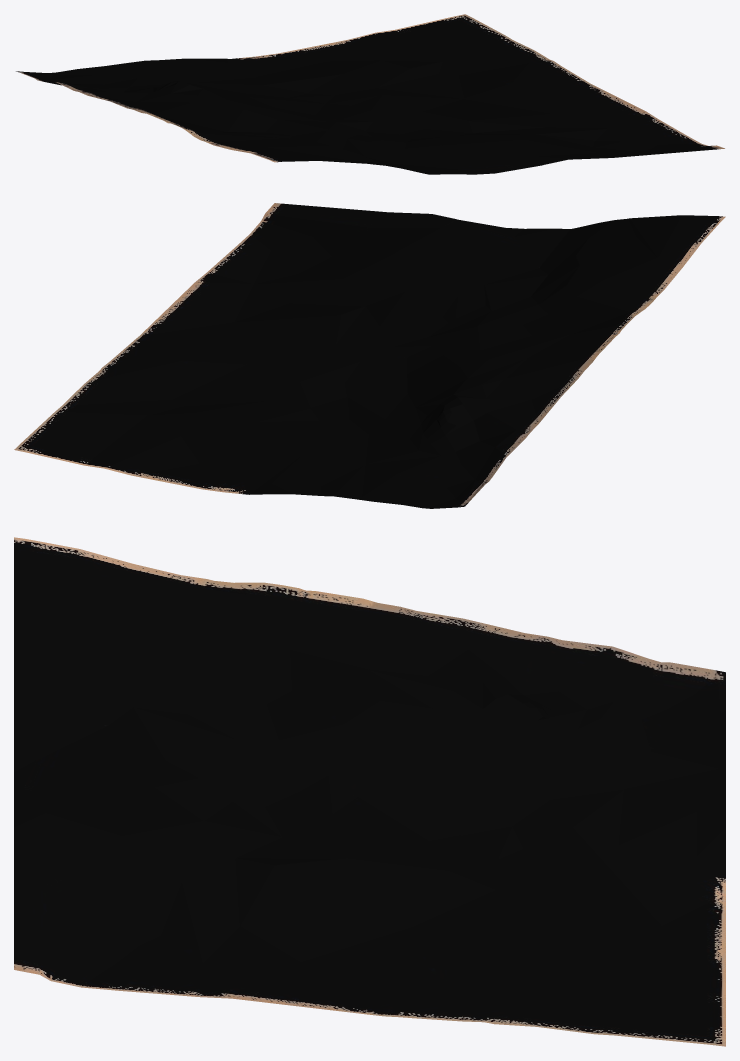
3 views of the same model, one above another, from view 1: azimuth 30°, elevation 25°; view 2: azimuth 150°, elevation 25°; view 3: azimuth 270°, elevation 25° (orthographic). The views are drawn at different scales.
Bounding box in the file's own units: 2.09 × 0.6748 × 2.09.
Materials: 3 (3 with a texture image).
